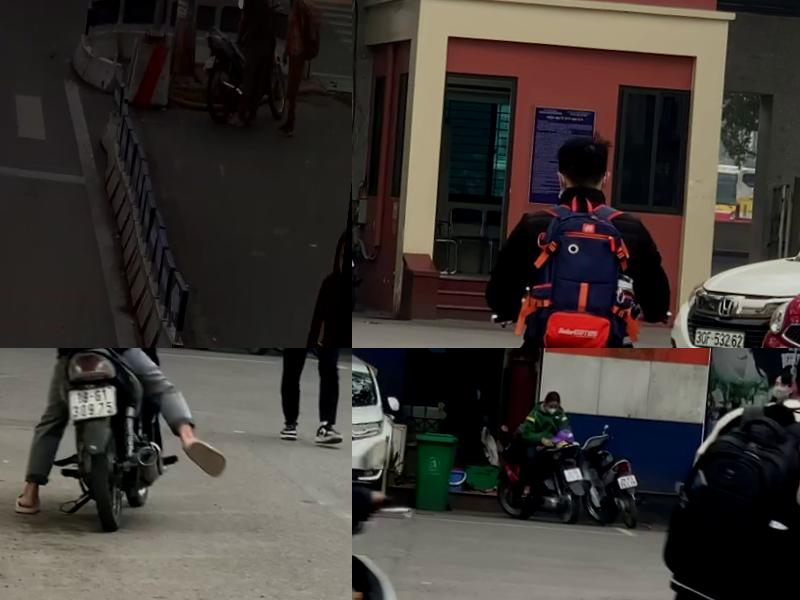license_plate: (69, 376, 126, 421), (622, 464, 646, 485), (567, 458, 590, 479), (352, 243, 364, 268)
motorcyclist: (467, 117, 694, 348), (11, 348, 253, 537)
